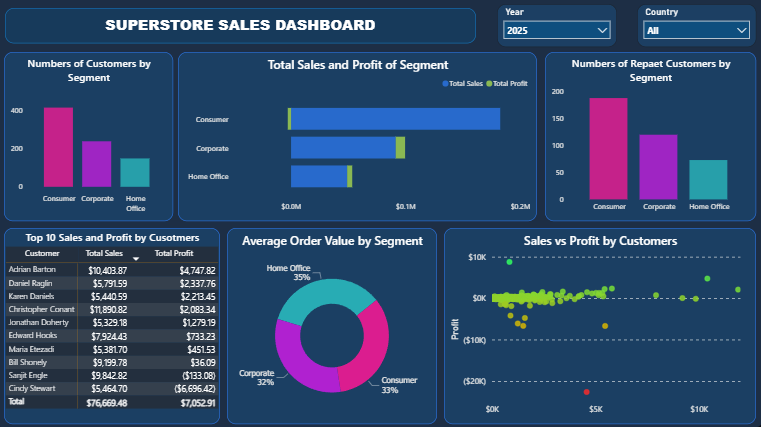

The dashboard page shown, as its layout file describes it:
{"tool":"powerbi","page":{"name":"Consumer Page","canvas":[1280,720],"ordinal":2},"visuals":[{"type":"textbox","box":[15.8,18.7,784.8,59],"z":0},{"type":"slicer","title":"Quarter","fields":{"Values":["Dim Locations.Country"]},"box":[1069.9,11.5,198.7,72],"z":1000},{"type":"slicer","title":"Quarter","fields":{"Values":["Dim Date.Date.Variation.Date Hierarchy.Year"]},"box":[836.6,11.5,200.2,72],"z":2000},{"type":"columnChart","title":"Numbers of Customers by Segment","fields":{"Category":["Dim Customers.Segment"],"Y":["CountNonNull(Dim Customers.Customer ID)"]},"box":[15,91.7,281.7,281.7],"z":3000},{"type":"pivotTable","title":"Top 10 Sales and Profit by Cusotmers","fields":{"Rows":["Dim Customers.Customer"],"Values":["Fact Orders.Total Sales","Fact Orders.Total Profit"]},"box":[15,385,360,326.7],"z":4000},{"type":"barChart","title":"Total Sales and Profit  of Segment","fields":{"Category":["Dim Customers.Segment"],"Y":["Fact Orders.Total Sales","Fact Orders.Total Profit"]},"box":[305,91.7,598.3,281.7],"z":5000},{"type":"columnChart","title":"Numbers of Repaet Customers by Segment","fields":{"Category":["Dim Customers.Segment"],"Y":["Dim Customers.Repeat Customers"]},"box":[916.7,91.7,351.7,281.7],"z":6000},{"type":"scatterChart","title":"Sales vs Profit by Customers","fields":{"Category":["Dim Customers.Customer ID"],"X":["Fact Orders.Total Sales"],"Y":["Fact Orders.Total Profit"]},"box":[748.3,385,520,326.7],"z":7000},{"type":"donutChart","title":"Average Order Value by Segment","fields":{"Category":["Dim Customers.Segment"],"Y":["Fact Orders.AVG Order Value"]},"box":[386.7,385,350,326.7],"z":8000}]}

Visuals, with their boxes in screenshot pixels (x1, y1, x2, y2), scaled from the page's 1280x720 canvas onto the 761x427 screenshot:
textbox: bbox=(9, 11, 476, 46)
"Quarter" slicer: bbox=(636, 7, 754, 50)
"Quarter" slicer: bbox=(497, 7, 616, 50)
"Numbers of Customers by Segment" columnChart: bbox=(9, 54, 176, 221)
"Top 10 Sales and Profit by Cusotmers" pivotTable: bbox=(9, 228, 223, 422)
"Total Sales and Profit  of Segment" barChart: bbox=(181, 54, 537, 221)
"Numbers of Repaet Customers by Segment" columnChart: bbox=(545, 54, 754, 221)
"Sales vs Profit by Customers" scatterChart: bbox=(445, 228, 754, 422)
"Average Order Value by Segment" donutChart: bbox=(230, 228, 438, 422)
